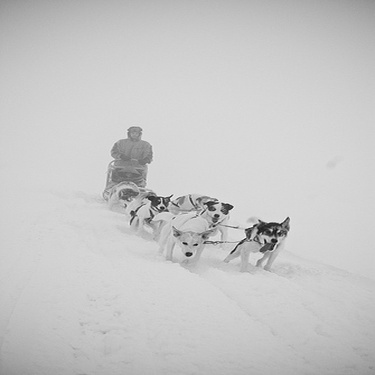dog: (218, 206, 298, 289), (143, 209, 219, 284), (165, 181, 238, 250), (116, 181, 176, 246), (109, 178, 146, 226)
